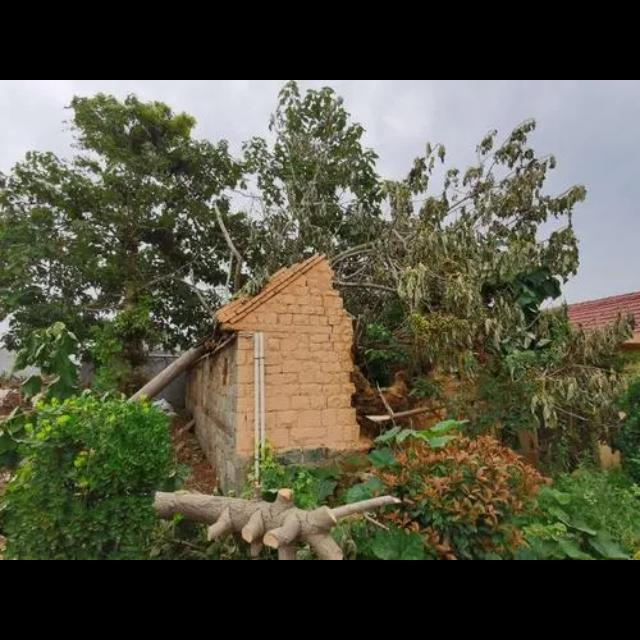fallen_tree: (116, 116, 564, 414), (153, 490, 407, 560)
